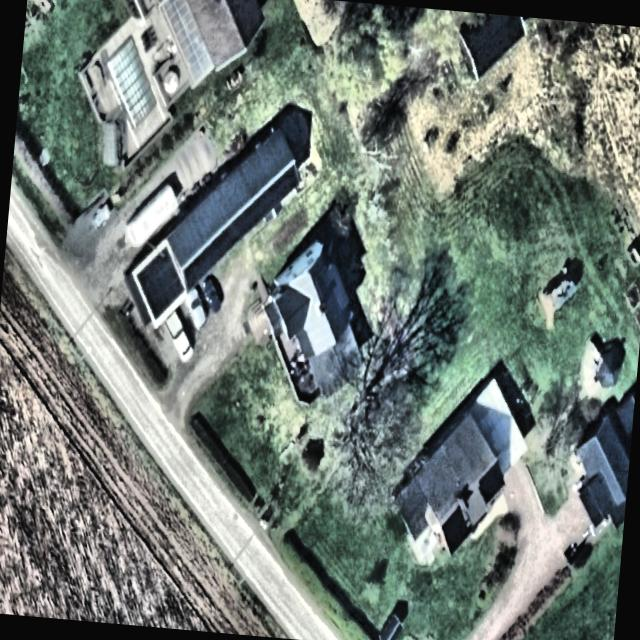roof_pv: (130, 240, 188, 324), (438, 504, 471, 556), (477, 460, 510, 506), (228, 199, 256, 252), (276, 157, 304, 210), (183, 244, 209, 296), (254, 178, 278, 224), (208, 223, 230, 273)
